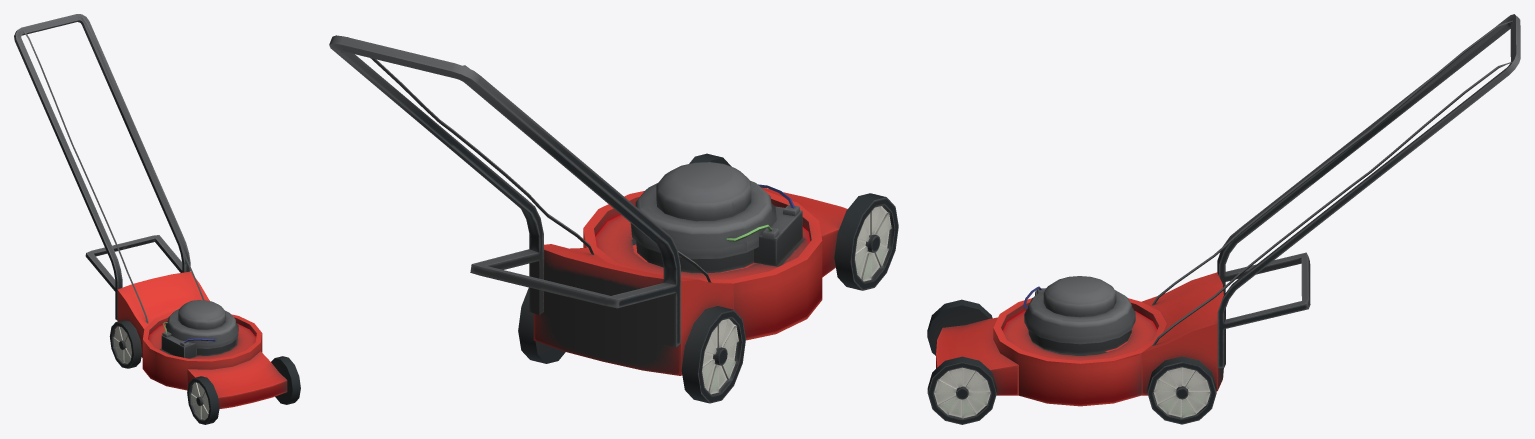
Rendered from lawnMower_2_no_bag.gltf.
The picture shows the model from 3 angles, left to right: view 1: azimuth 30°, elevation 25°; view 2: azimuth 150°, elevation 25°; view 3: azimuth 270°, elevation 25°; orthographic projection. The views are drawn at different scales.
Parts seen in each view (by area): view 1: HandleBar, MainBody, Engine, BackBody, FrontBody, WheelBR, WheelFR, WheelFL; view 2: HandleBar, BackBody, Engine, MainBody, WheelBR, WheelFR, FrontBody, WheelBL; view 3: HandleBar, MainBody, Engine, BackBody, WheelBL, WheelFL, FrontBody, WheelFR.
Boxes of the visible parts, x1=… form: HandleBar: x1=14, y1=14, x2=204, y2=323; MainBody: x1=142, y1=311, x2=262, y2=390; Engine: x1=161, y1=300, x2=238, y2=358; BackBody: x1=117, y1=271, x2=209, y2=357; FrontBody: x1=187, y1=351, x2=287, y2=409; WheelBR: x1=109, y1=320, x2=142, y2=368; WheelFR: x1=187, y1=376, x2=219, y2=424; WheelFL: x1=271, y1=356, x2=300, y2=404; HandleBar: x1=329, y1=35, x2=711, y2=347; BackBody: x1=533, y1=244, x2=733, y2=375; Engine: x1=630, y1=162, x2=802, y2=273; MainBody: x1=583, y1=190, x2=822, y2=340; WheelBR: x1=681, y1=306, x2=745, y2=403; WheelFR: x1=834, y1=193, x2=898, y2=290; FrontBody: x1=761, y1=187, x2=847, y2=277; WheelBL: x1=518, y1=288, x2=565, y2=363; HandleBar: x1=1152, y1=14, x2=1520, y2=368; MainBody: x1=993, y1=298, x2=1166, y2=406; Engine: x1=1023, y1=276, x2=1135, y2=354; BackBody: x1=1141, y1=272, x2=1223, y2=395; WheelBL: x1=1147, y1=356, x2=1216, y2=424; WheelFL: x1=927, y1=356, x2=996, y2=424; FrontBody: x1=936, y1=317, x2=1018, y2=395; WheelFR: x1=927, y1=299, x2=992, y2=355.
Bounding box in the file's own units: 1.61 × 3.7 × 5.56.
Materials: 1 (1 with a texture image).
